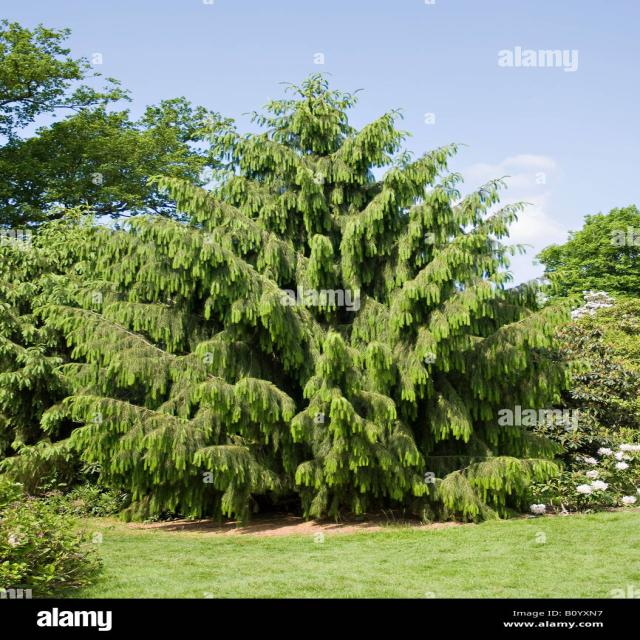Picea breweriana: (76, 75, 566, 531)
